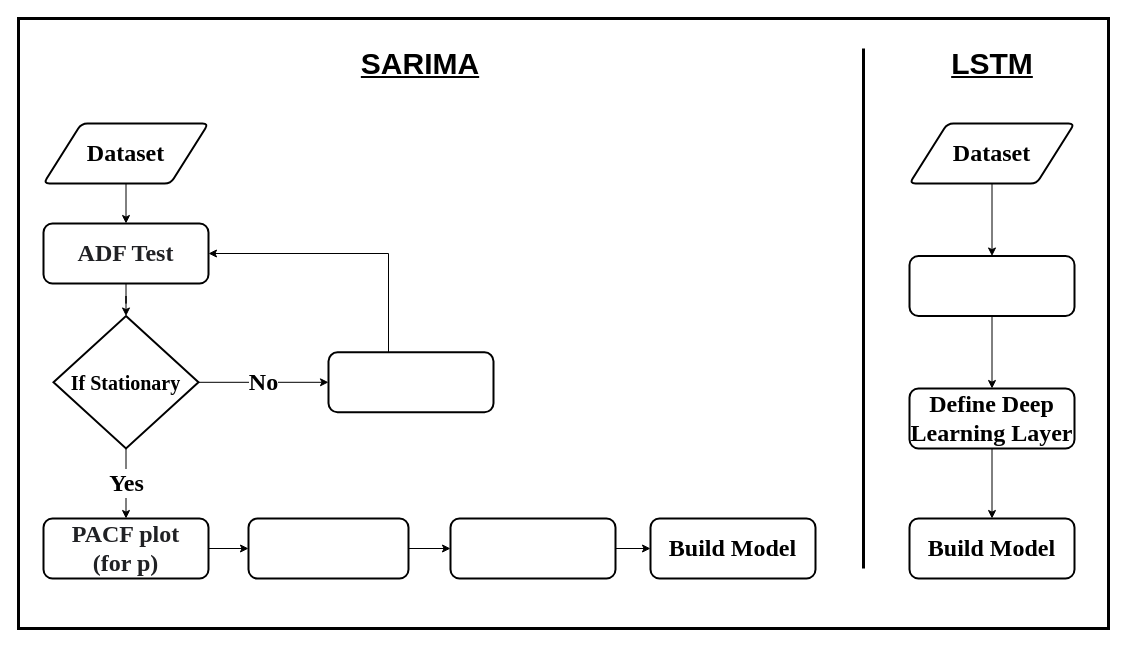
This 1127x647 diagram has some shape labels left out. Each missing label, with the box of its shape:
ACF plot (for q): (247, 517, 409, 579)
Differencing (for d): (327, 351, 494, 413)
Input > Output Sequence: (908, 254, 1075, 316)
Seasonality (for m): (449, 517, 616, 579)
